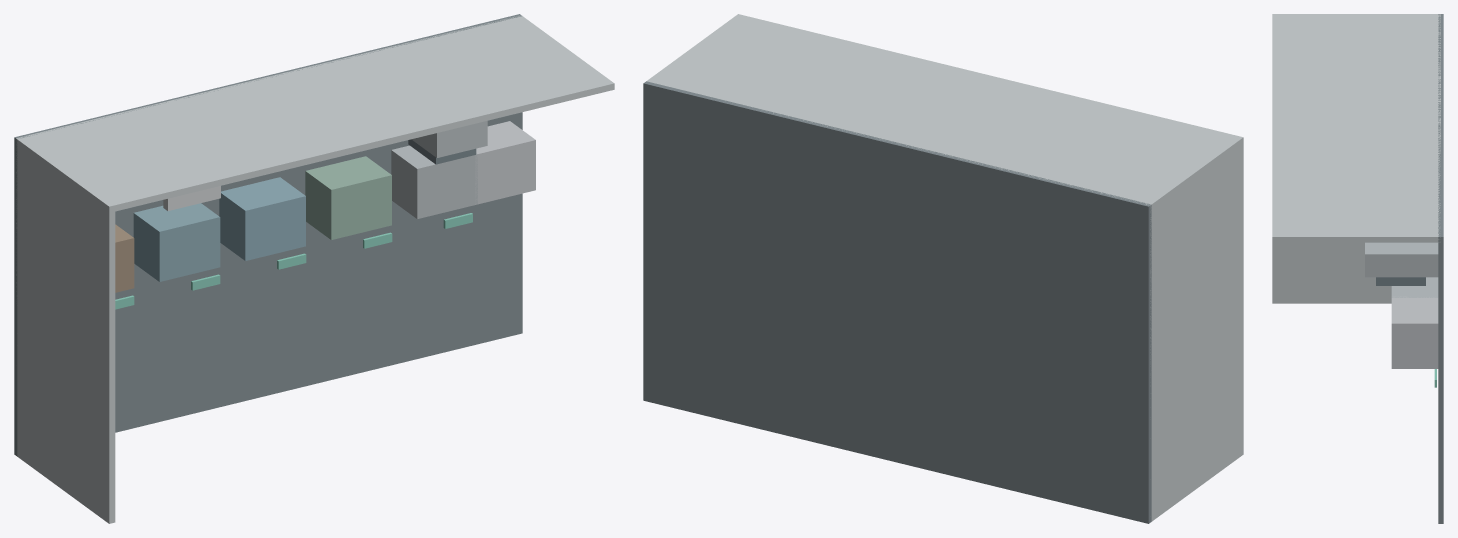
File: cme-room-medium.glb
The picture shows the model from 3 angles, left to right: view 1: azimuth 30°, elevation 25°; view 2: azimuth 150°, elevation 25°; view 3: azimuth 270°, elevation 25°; orthographic projection. The views are drawn at different scales.
Visible parts, largest first — view 1: floor, wall_back, wall_left, packing, inspection, cleaning, sterilizer, sterile_storage, autoclave, receiving_dirty, cleaning_sink; view 2: floor, wall_back, wall_left; view 3: wall_back, wall_left, sterile_storage, floor, autoclave, sterilizer, autoclave_door.
Boxes of the visible parts, box(x1,y1,x2,y2) form: floor: box(14, 14, 522, 456); wall_back: box(16, 15, 614, 212); wall_left: box(16, 138, 115, 523); packing: box(305, 156, 391, 239); inspection: box(219, 177, 305, 260); cleaning: box(133, 203, 220, 281); sterilizer: box(391, 145, 477, 219); sterile_storage: box(475, 121, 535, 204); autoclave: box(412, 121, 487, 157); receiving_dirty: box(115, 224, 134, 292); cleaning_sink: box(163, 186, 220, 210); floor: box(643, 81, 1151, 523); wall_back: box(646, 14, 1243, 210); wall_left: box(1145, 136, 1243, 521); wall_back: box(1272, 14, 1440, 242); wall_left: box(1272, 14, 1440, 303); sterile_storage: box(1391, 296, 1438, 368); floor: box(1438, 14, 1443, 523); autoclave: box(1365, 242, 1438, 277); sterilizer: box(1391, 277, 1438, 297); autoclave_door: box(1376, 277, 1425, 285).
Bounding box in the file's own units: 10 × 6 × 3.25.
